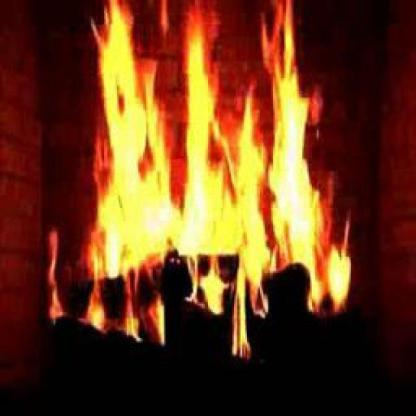fire: (35, 0, 364, 366)
